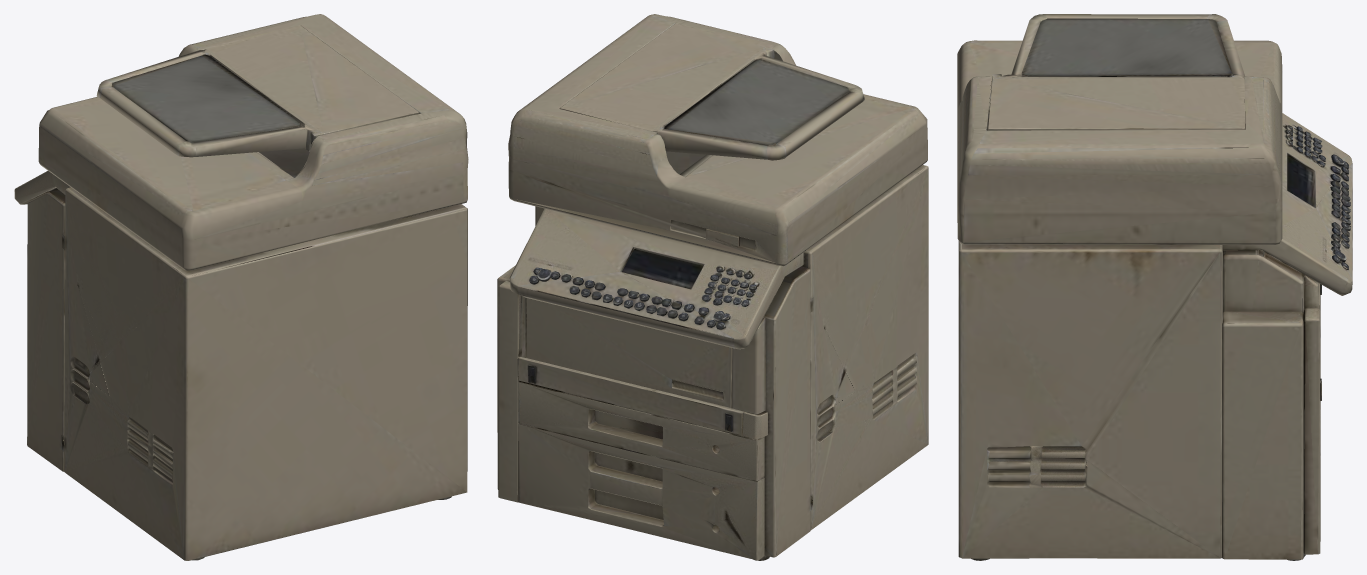
Rendered from office-photocopier.glb.
3 renders of one model, left to right at view 1: azimuth 30°, elevation 25°; view 2: azimuth 150°, elevation 25°; view 3: azimuth 270°, elevation 25°, orthographic. The views are drawn at different scales.
Visible parts, largest first — view 1: photocopier; view 2: photocopier; view 3: photocopier.
Boxes of the visible parts, x1,y1,x2,y2 form: photocopier: [14, 14, 468, 560]; photocopier: [497, 14, 928, 560]; photocopier: [957, 14, 1352, 560].
Bounding box in the file's own units: 0.85 × 1.1 × 0.9379.
Materials: 1 (1 with a texture image).
